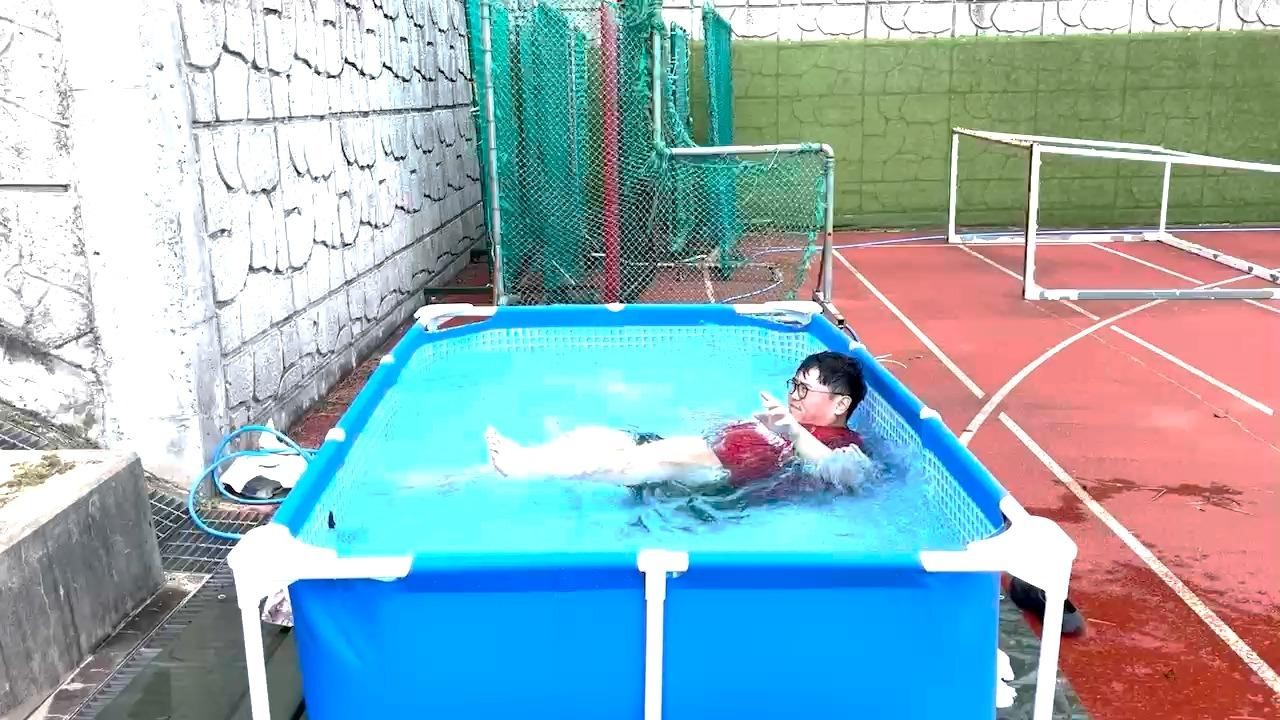Drowning: (483, 365, 851, 498)
